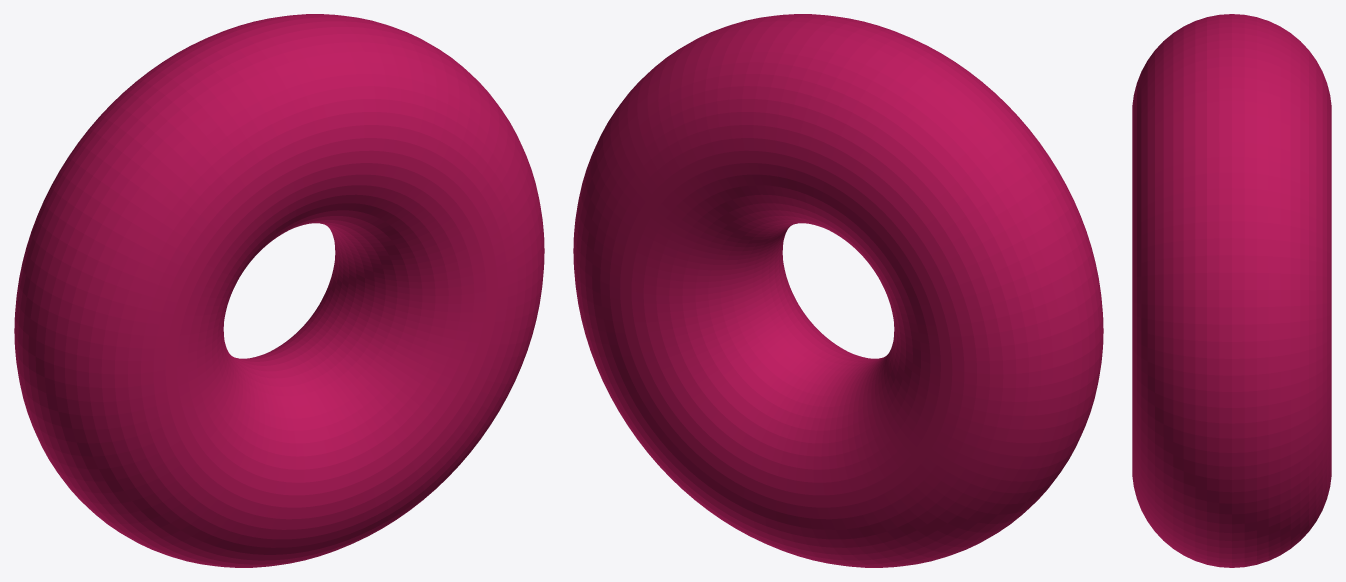
The picture shows the model from 3 angles, left to right: view 1: azimuth 30°, elevation 25°; view 2: azimuth 150°, elevation 25°; view 3: azimuth 270°, elevation 25°; orthographic projection. The views are drawn at different scales.
Visible parts, largest first — view 1: world; view 2: world; view 3: world.
Boxes of the visible parts, <box> form: world: <box>14,14,544,567</box>; world: <box>573,14,1103,567</box>; world: <box>1132,14,1331,567</box>.
Size of the model in its own units: 24 by 24 by 8.65.
